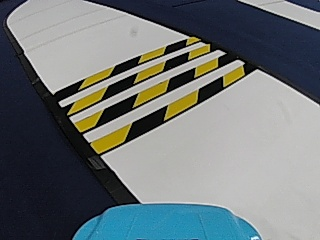bump: (72, 40, 214, 135)
